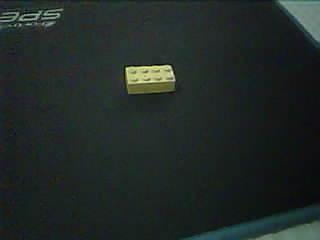lego: (124, 64, 177, 95)
